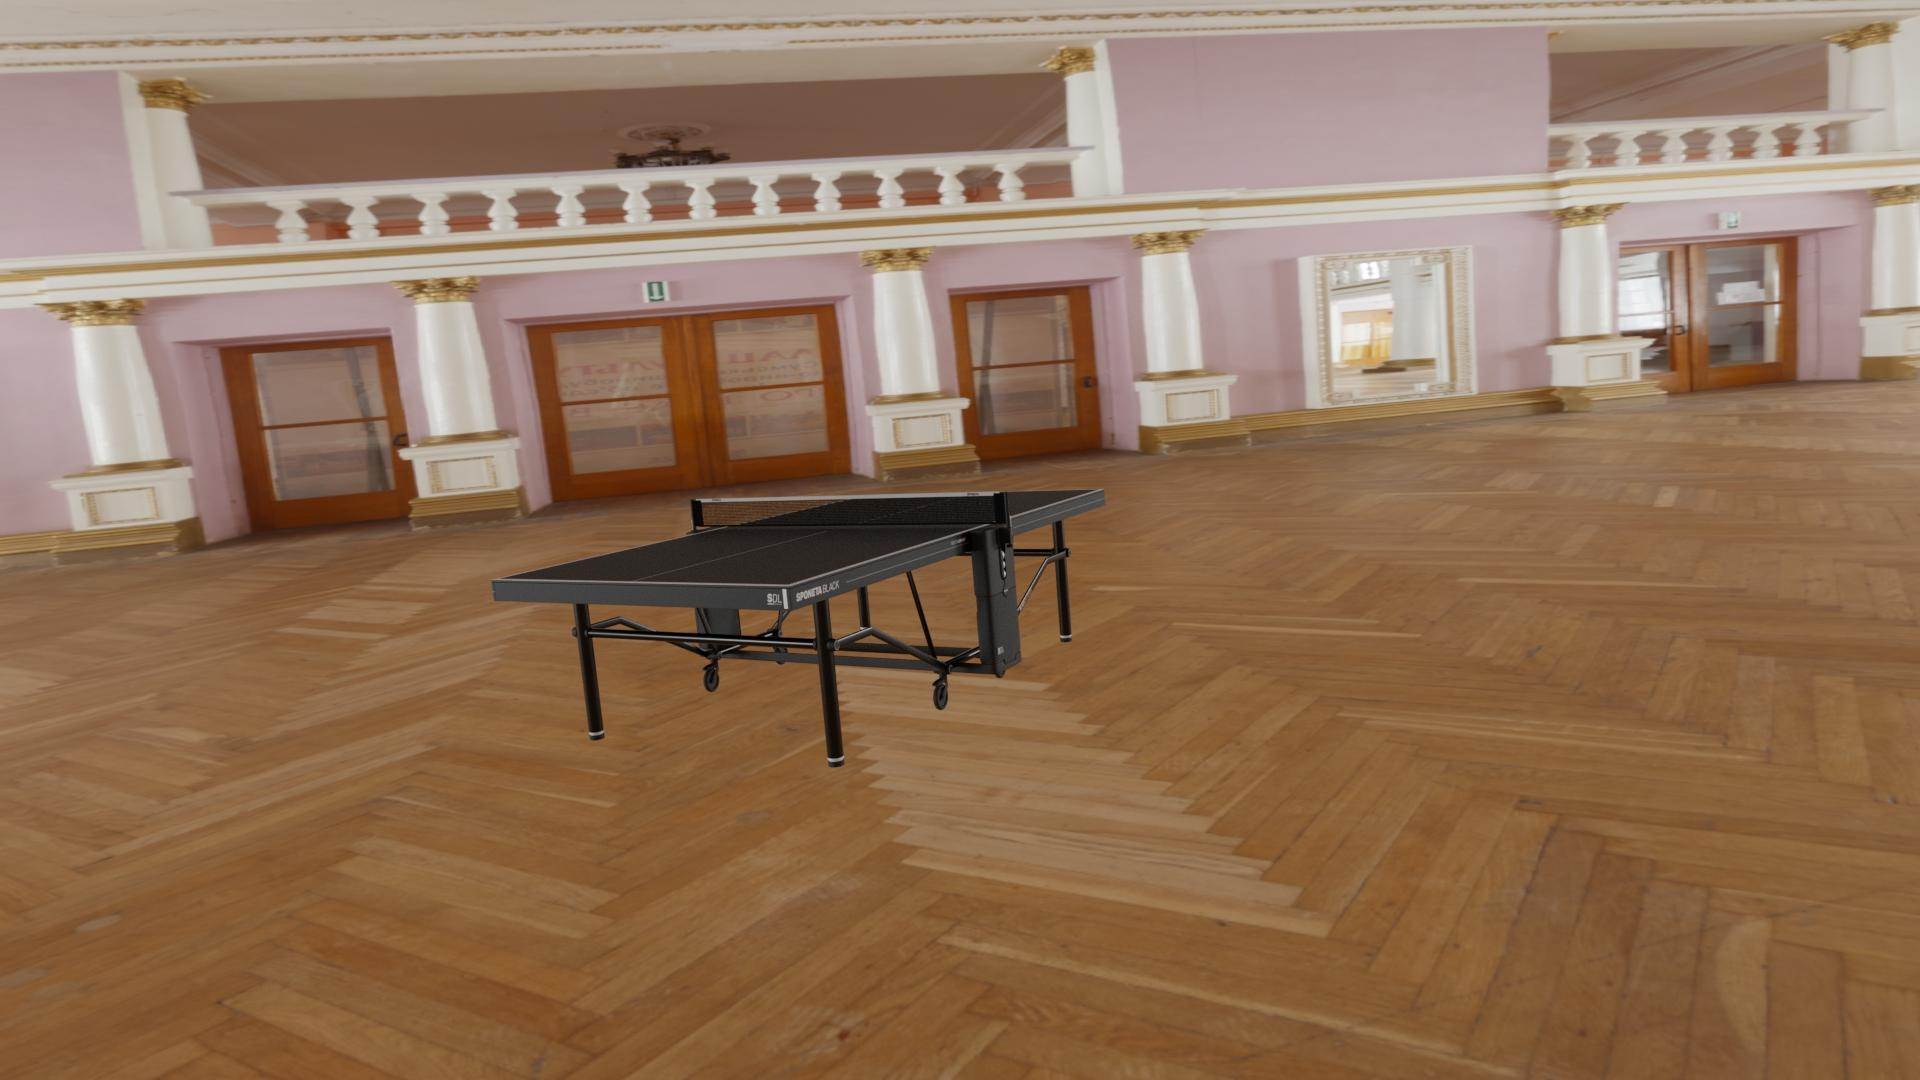table: (498, 489, 1100, 584)
